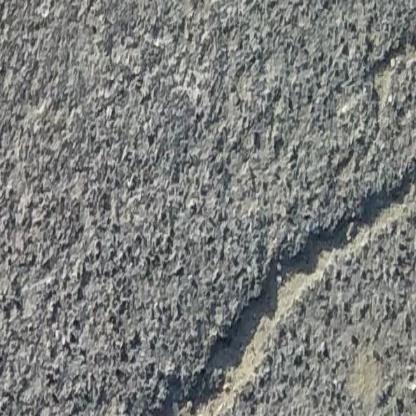Cracks: (133, 150, 416, 416)
